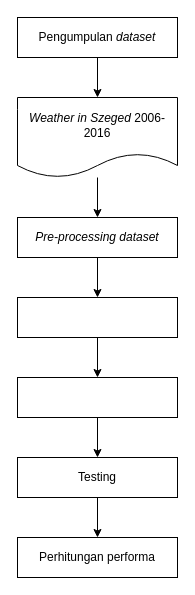
Image size: 195x595. Some labels were removed from this diagram. Here are the shapes that lost their labels. From the top down, the centre of each, then its label:
(97,317): Pemodelan dengan Naïve Bayes
(97,397): Training
